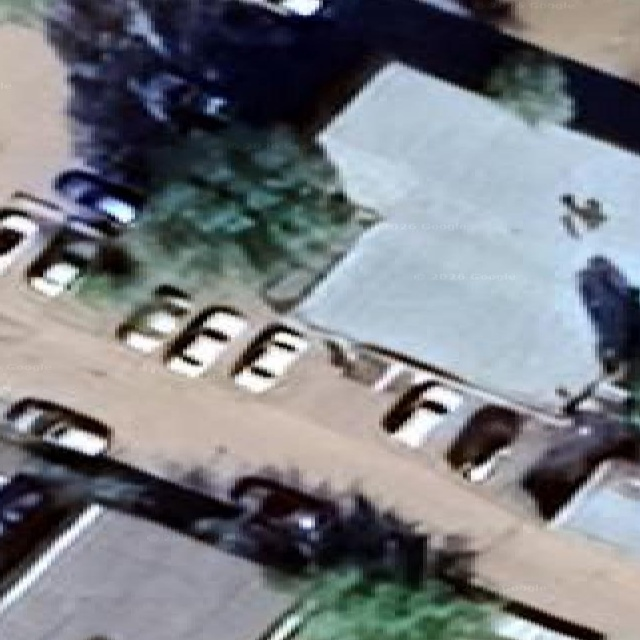car: (230, 476, 338, 567), (5, 398, 110, 455), (53, 169, 144, 233), (165, 308, 247, 377), (383, 381, 463, 447), (116, 285, 191, 353), (234, 327, 308, 393)
